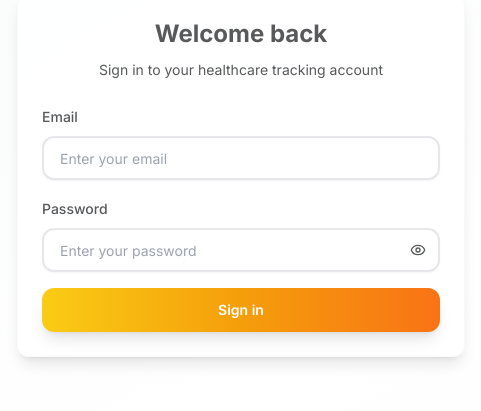
Test case: LoginForm › validates password field
This screenshot has width=481, height=411.
Type "test@example.com" into the field labelled "Email" at x=241, y=158, box [42,136,440,180]
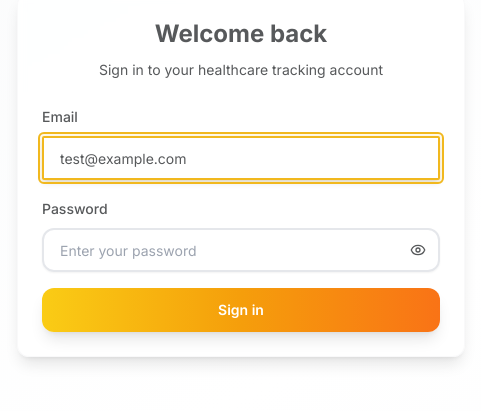
Type "123" into the password field labelled "Password" at x=241, y=250, box [42,228,440,272]
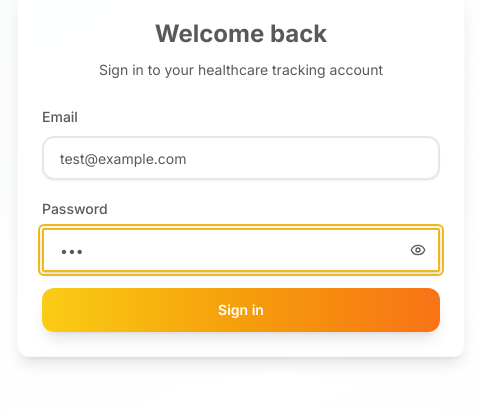
Click the button "Sign in" at x=241, y=310, box [42,288,440,332]
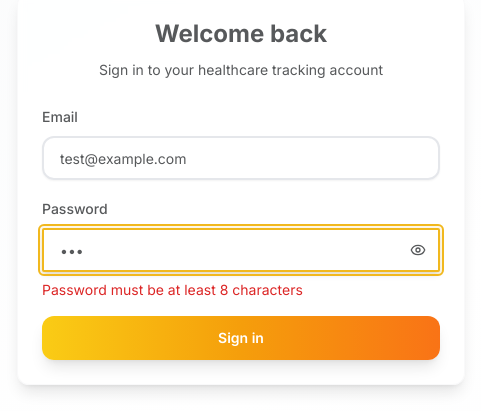
Expected: the text "Password must be at least 8 characters" is shown, [42,281,303,298]
